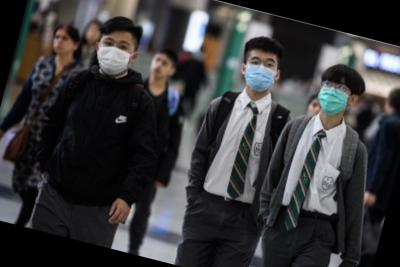with_mask: (92, 34, 136, 80), (313, 75, 356, 120), (240, 52, 281, 96)
without_mask: (148, 55, 173, 81), (50, 31, 75, 57)
